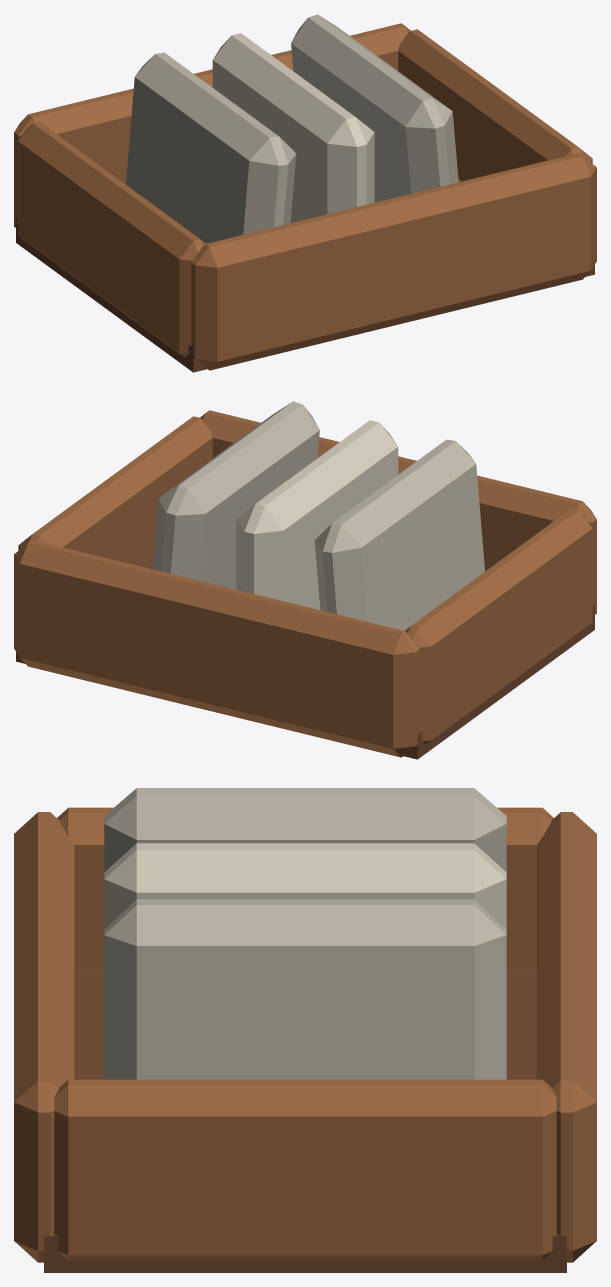
The model's file is letter_tray.glb.
3 views of the same model, one above another, from view 1: azimuth 30°, elevation 25°; view 2: azimuth 150°, elevation 25°; view 3: azimuth 270°, elevation 25° (orthographic). The views are drawn at different scales.
Parts seen in each view (by area): view 1: body; view 2: body; view 3: body.
Boxes of the visible parts, x1,y1,x2,y2 form: body: (14,14,596,372); body: (14,401,596,759); body: (14,788,596,1272).
Size of the model in its own units: 0.35 by 0.1501 by 0.29.
